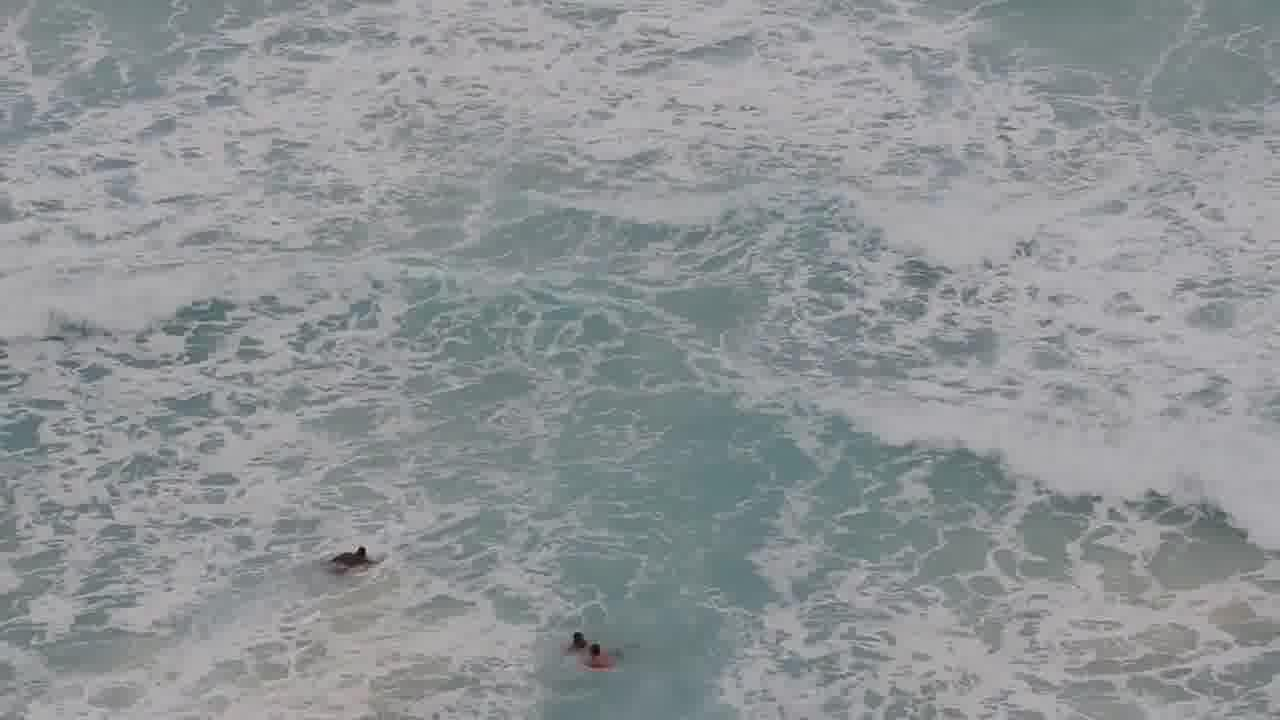human: (343, 535, 373, 579), (567, 626, 585, 653), (589, 638, 605, 666)
